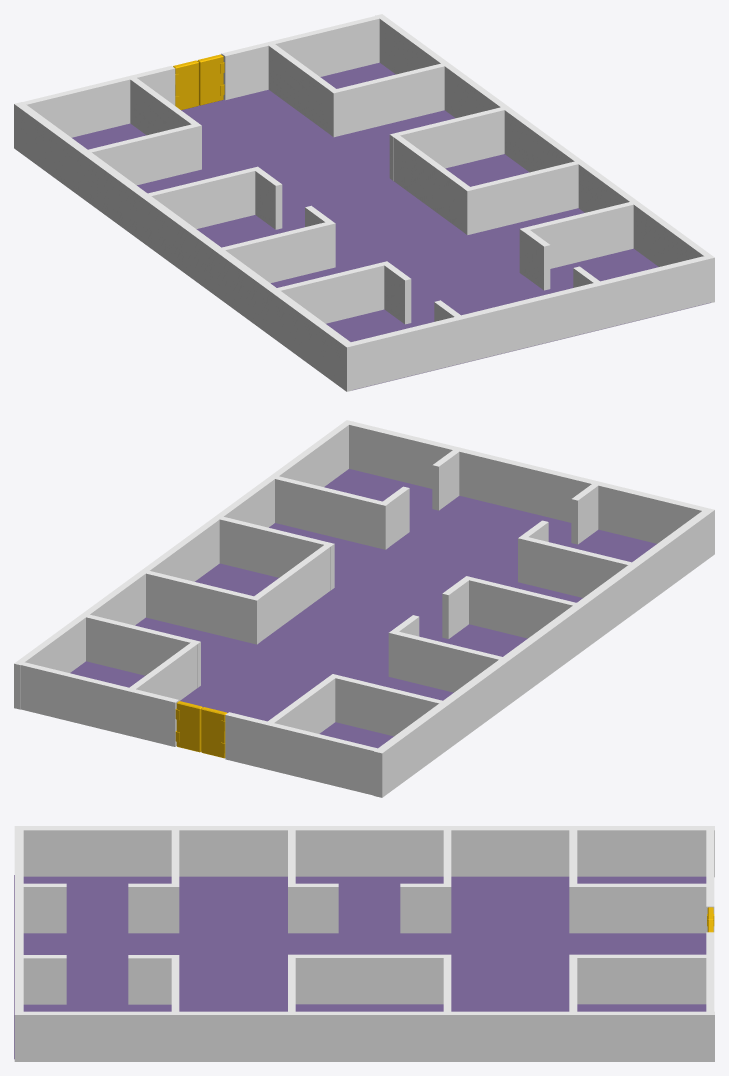
File: maps_78.fbx
3 renders of one model, top to bottom at view 1: azimuth 30°, elevation 25°; view 2: azimuth 150°, elevation 25°; view 3: azimuth 270°, elevation 25°, orthographic. The views are drawn at different scales.
Parts seen in each view (by area): view 1: wall_01_08_geo, wall_01_07_geo, wall_01_05_geo, wall_01_06_geo, wall_01_09_geo1, wall_01_11_geo46, wall_01_11_geo42, wall_01_09_geo, wall_01_11_geo54, wall_01_11_geo45, wall_01_11_geo41, wall_01_11_geo48 (+10 smaller); view 2: wall_01_08_geo, wall_01_07_geo, wall_01_05_geo, wall_01_06_geo, wall_01_09_geo1, wall_01_09_geo, wall_01_11_geo48, wall_01_11_geo54, wall_01_11_geo47, wall_01_11_geo46, wall_01_11_geo53, wall_01_11_geo42 (+11 smaller); view 3: wall_01_08_geo, wall_01_06_geo, wall_01_07_geo, wall_01_11_geo44, wall_01_11_geo39, wall_01_11_geo40, wall_01_11_geo49, wall_01_11_geo52, wall_01_11_geo43, wall_01_11_geo51, wall_01_11_geo55, wall_01_11_geo56 (+11 smaller).
Boxes of the visible parts, left/top/right/bottom form: wall_01_08_geo: left=72, top=62, right=710, bottom=390; wall_01_07_geo: left=14, top=102, right=354, bottom=391; wall_01_05_geo: left=351, top=256, right=708, bottom=389; wall_01_06_geo: left=376, top=14, right=714, bottom=303; wall_01_09_geo1: left=221, top=16, right=379, bottom=100; wall_01_11_geo46: left=463, top=161, right=578, bottom=234; wall_01_11_geo42: left=330, top=63, right=444, bottom=137; wall_01_09_geo: left=23, top=65, right=175, bottom=137; wall_01_11_geo54: left=519, top=202, right=633, bottom=275; wall_01_11_geo45: left=222, top=221, right=335, bottom=283; wall_01_11_geo41: left=88, top=123, right=201, bottom=185; wall_01_11_geo48: left=389, top=107, right=504, bottom=180; wall_01_08_geo: left=70, top=469, right=656, bottom=748; wall_01_07_geo: left=373, top=508, right=714, bottom=797; wall_01_05_geo: left=349, top=421, right=706, bottom=543; wall_01_06_geo: left=14, top=420, right=352, bottom=709; wall_01_09_geo1: left=21, top=662, right=178, bottom=746; wall_01_09_geo: left=225, top=712, right=377, bottom=795; wall_01_11_geo48: left=146, top=571, right=260, bottom=644; wall_01_11_geo54: left=275, top=476, right=389, bottom=549; wall_01_11_geo47: left=388, top=630, right=502, bottom=692; wall_01_11_geo46: left=219, top=516, right=334, bottom=590; wall_01_11_geo53: left=518, top=535, right=631, bottom=597; wall_01_11_geo42: left=86, top=614, right=200, bottom=688; wall_01_08_geo: left=14, top=875, right=706, bottom=1059; wall_01_06_geo: left=14, top=1011, right=714, bottom=1061; wall_01_07_geo: left=14, top=826, right=714, bottom=877; wall_01_11_geo44: left=295, top=954, right=443, bottom=1004; wall_01_11_geo39: left=577, top=883, right=707, bottom=933; wall_01_11_geo40: left=577, top=954, right=706, bottom=1004; wall_01_11_geo49: left=400, top=883, right=443, bottom=933; wall_01_11_geo52: left=128, top=883, right=171, bottom=933; wall_01_11_geo43: left=295, top=883, right=338, bottom=933; wall_01_11_geo51: left=23, top=883, right=66, bottom=933; wall_01_11_geo55: left=128, top=955, right=171, bottom=1004; wall_01_11_geo56: left=23, top=955, right=66, bottom=1004.
Bounding box in the file's own units: 76.85 × 8.89 × 120.
2 materials, 2 textured.
